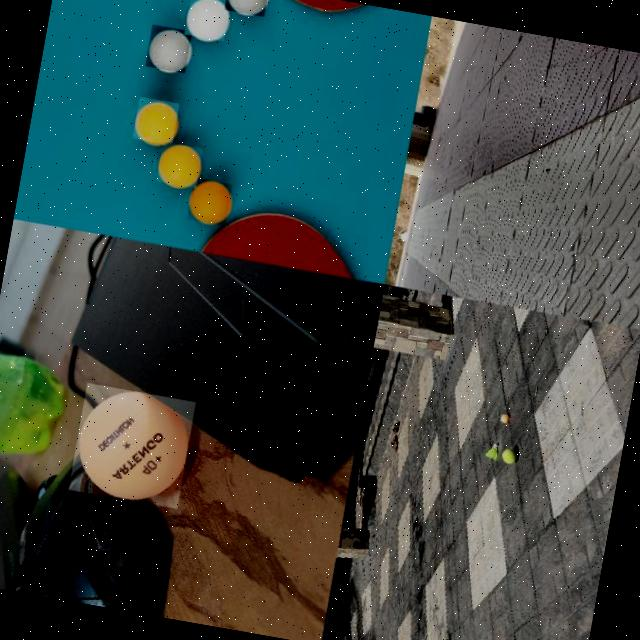ping-pong-ball: (68, 382, 197, 509), (144, 22, 193, 74), (132, 94, 180, 146), (186, 176, 234, 226), (156, 140, 204, 189), (183, 0, 232, 42), (223, 0, 270, 18), (498, 412, 509, 422)
